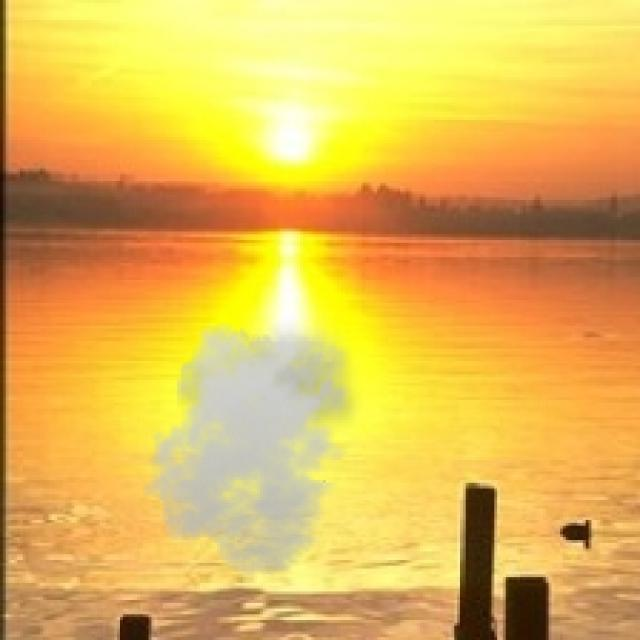Smoke: (143, 314, 363, 577)
